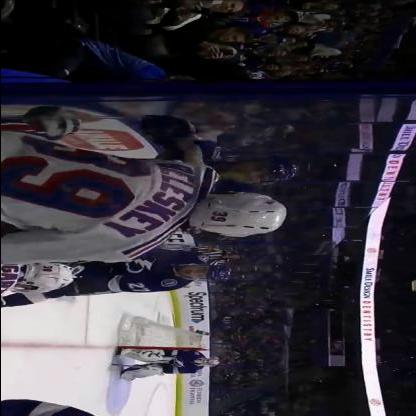non-Voilence: (112, 348, 228, 382)
